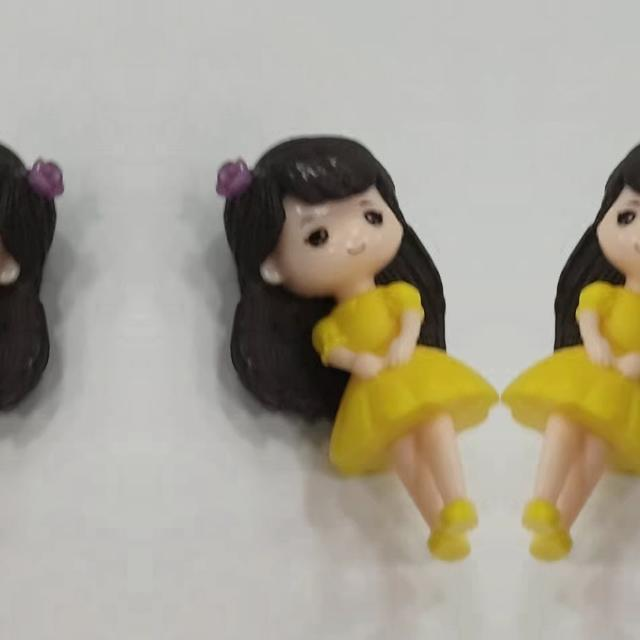woman dress: (314, 278, 501, 594), (499, 278, 640, 594)
woman head: (210, 131, 426, 289), (0, 131, 70, 289), (574, 131, 640, 289)
